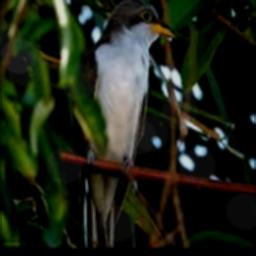Cuckoo: (74, 0, 175, 248)
